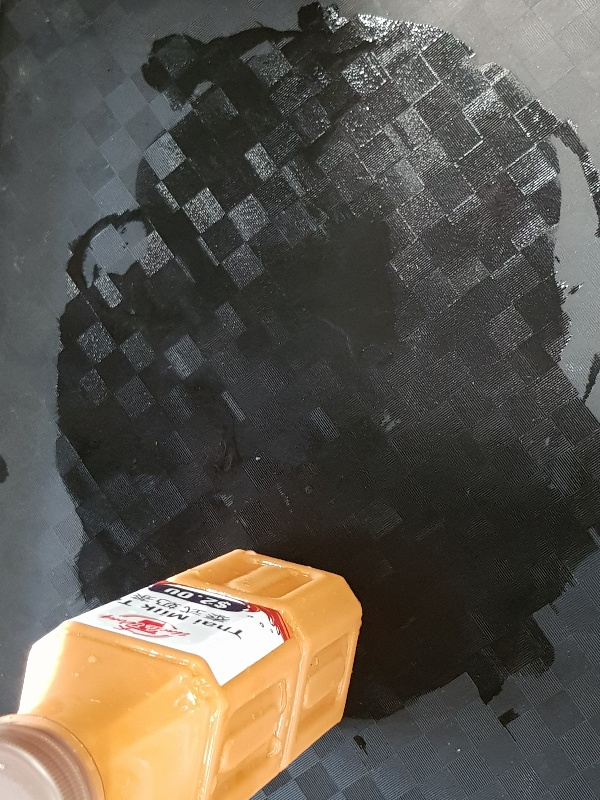Thai Milk Tea: (1, 549, 362, 800)
